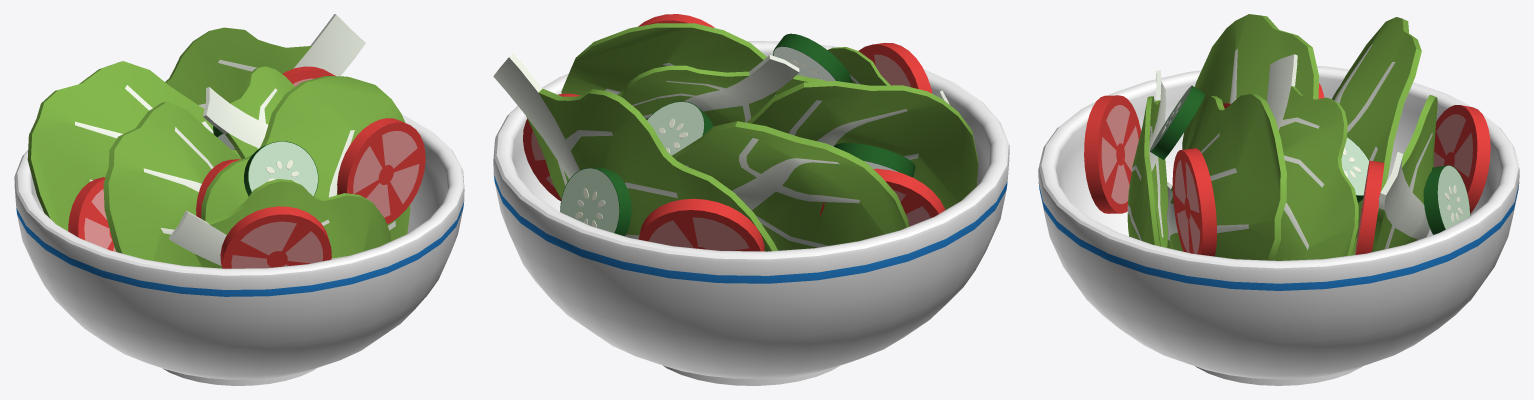
File: green_salad.glb
3 views of the same model, side by side, from view 1: azimuth 30°, elevation 25°; view 2: azimuth 150°, elevation 25°; view 3: azimuth 270°, elevation 25° (orthographic). The views are drawn at different scales.
Visible parts, largest first — view 1: Sphere.491; view 2: Sphere.491; view 3: Sphere.491.
Part boxes in pixels (x1,y1,x2,y2): Sphere.491: (14, 14, 464, 385); Sphere.491: (493, 14, 1009, 385); Sphere.491: (1038, 14, 1519, 385).
Size of the model in its own units: 2.25 by 1.45 by 2.25.
1 material, 1 textured.
